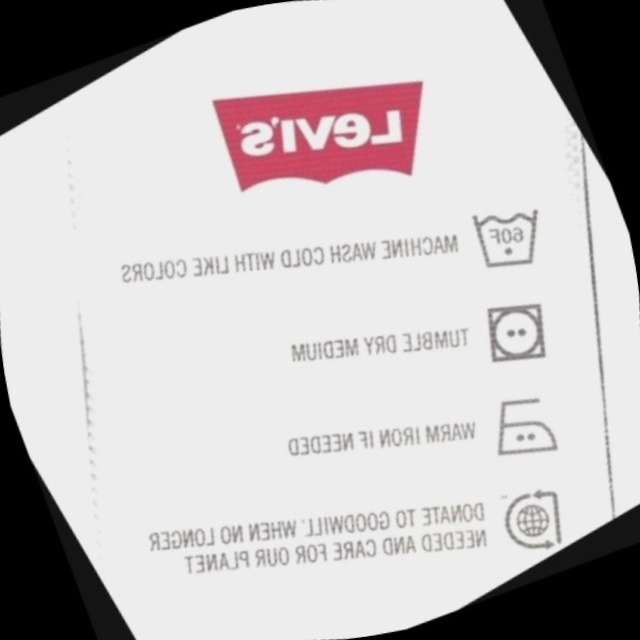30C: (437, 163, 577, 306)
iron_medium: (450, 357, 592, 499)
tumble_dry_medium: (444, 263, 583, 402)
